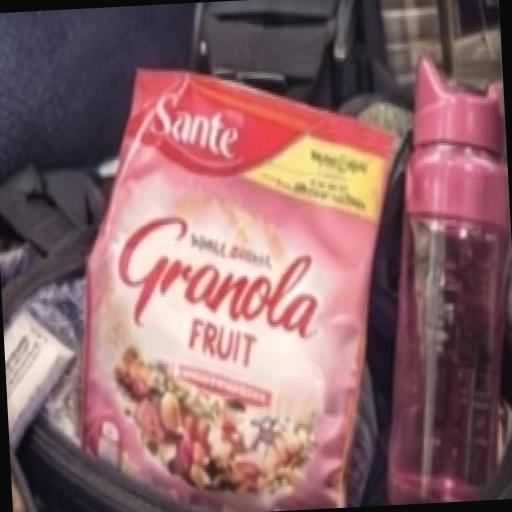granola: (51, 28, 406, 512)
